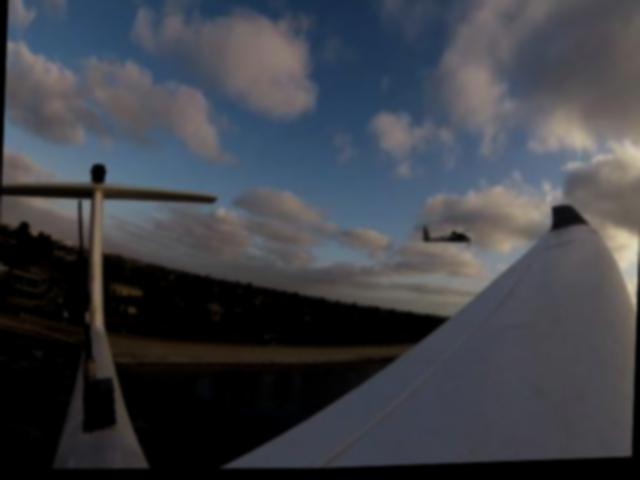uav: (416, 218, 477, 256)
